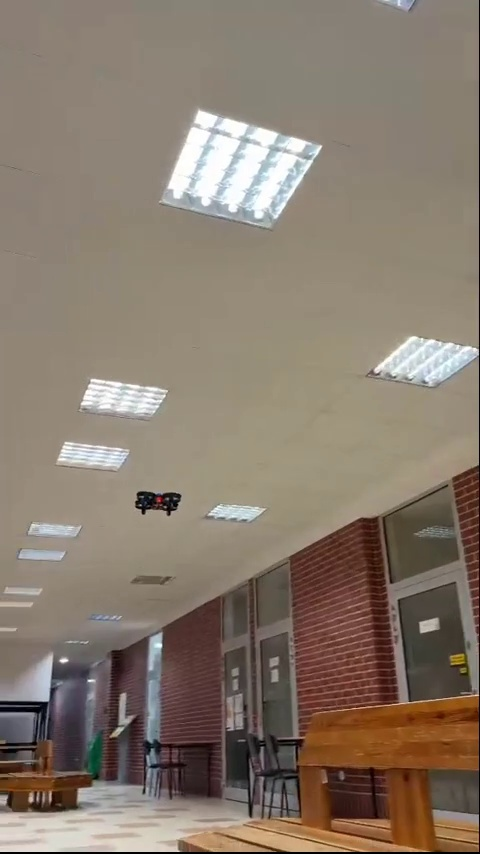drone: (135, 488, 184, 515)
